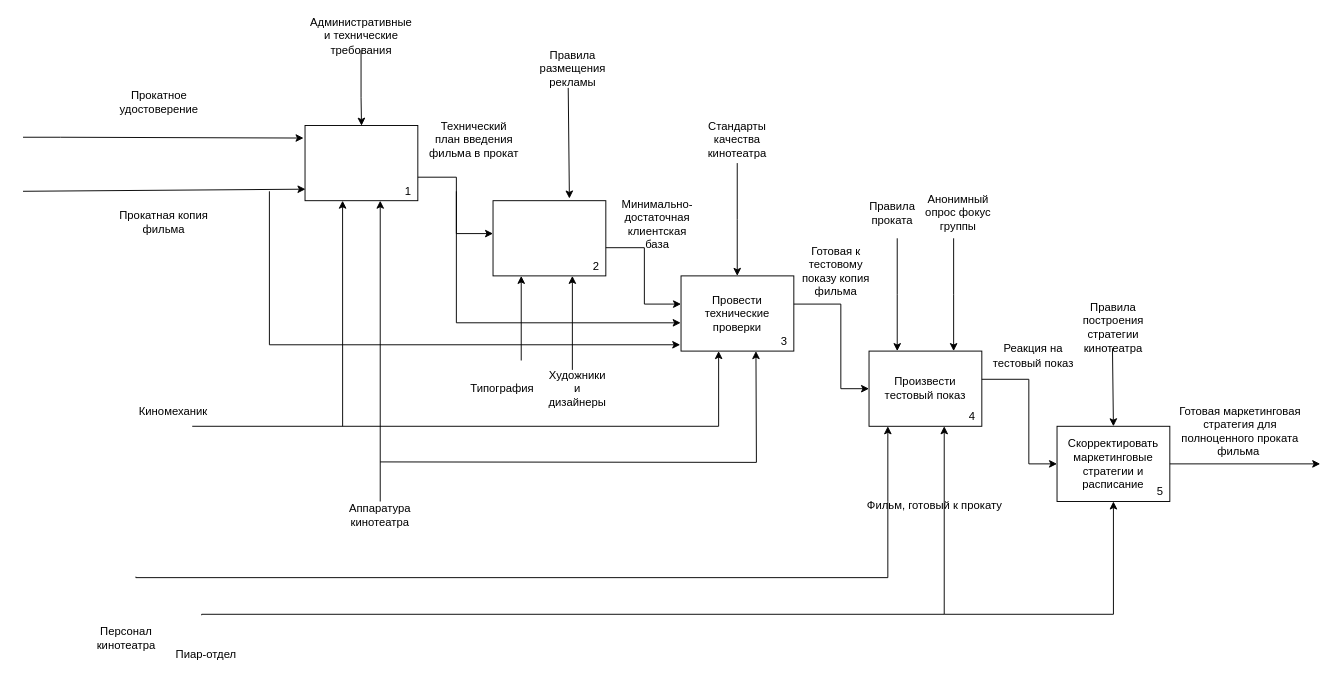
The diagram is 1344 pixels wide and 692 high, and some of its shapes have lost their labels. Here are the shapes that lost their labels. From the top down, the box of each, then its label:
(304, 125, 418, 201): Спланировать технических аспектов
(492, 200, 606, 276): Разместить афишу и рекламу
